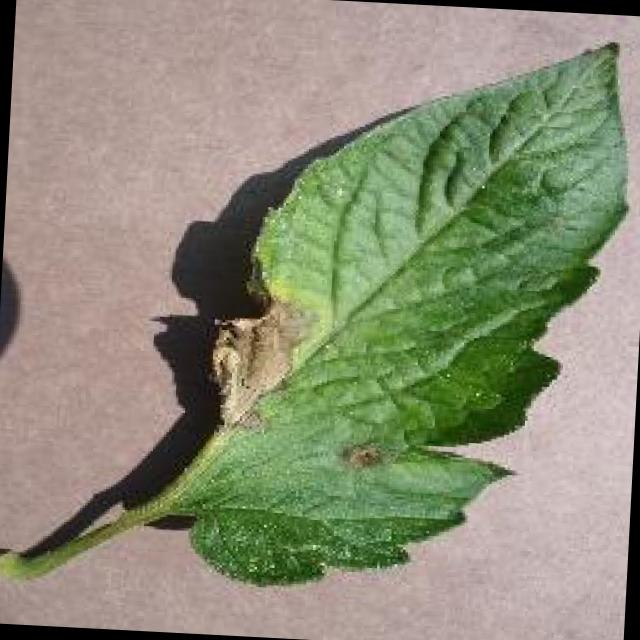Tomato_Late_Blight: (111, 272, 416, 577)
